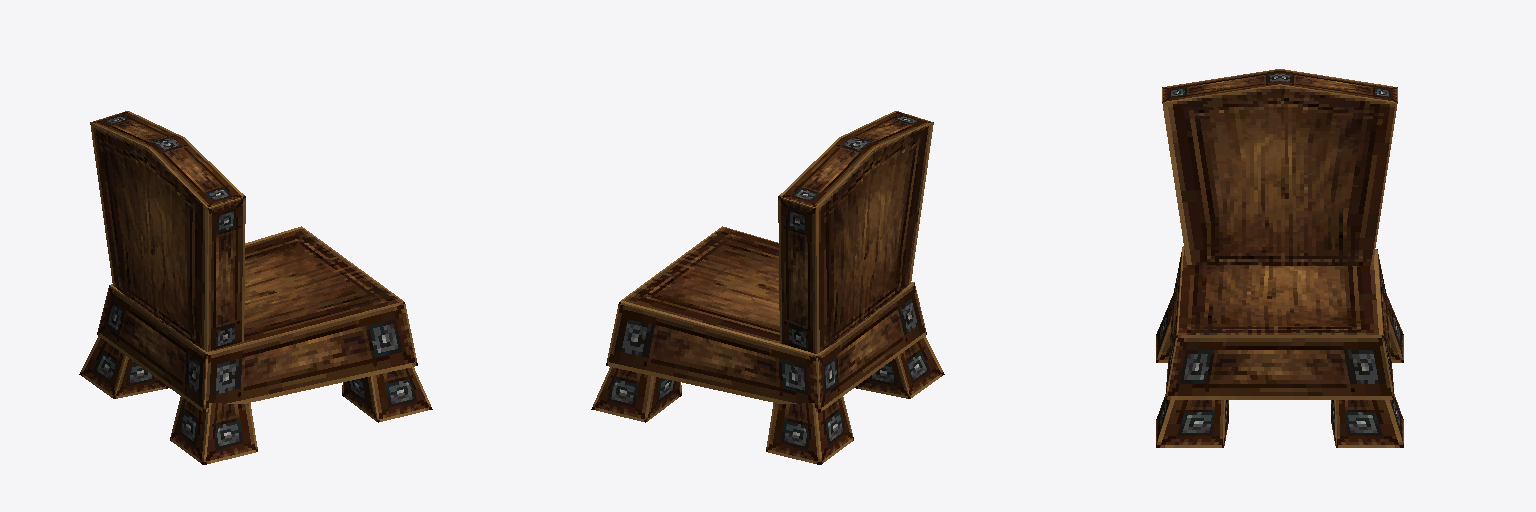
3 views of the same model, side by side, from view 1: azimuth 30°, elevation 25°; view 2: azimuth 150°, elevation 25°; view 3: azimuth 270°, elevation 25° (orthographic).
Parts seen in each view (by area): view 1: GeneralChairLoEnd01; view 2: GeneralChairLoEnd01; view 3: GeneralChairLoEnd01.
Boxes of the visible parts, <box> form: GeneralChairLoEnd01: <box>79,111,432,464</box>; GeneralChairLoEnd01: <box>591,111,944,464</box>; GeneralChairLoEnd01: <box>1156,69,1403,447</box>.
Bounding box in the file's own units: 1.18 × 1.33 × 1.11.
Materials: 1 (1 with a texture image).